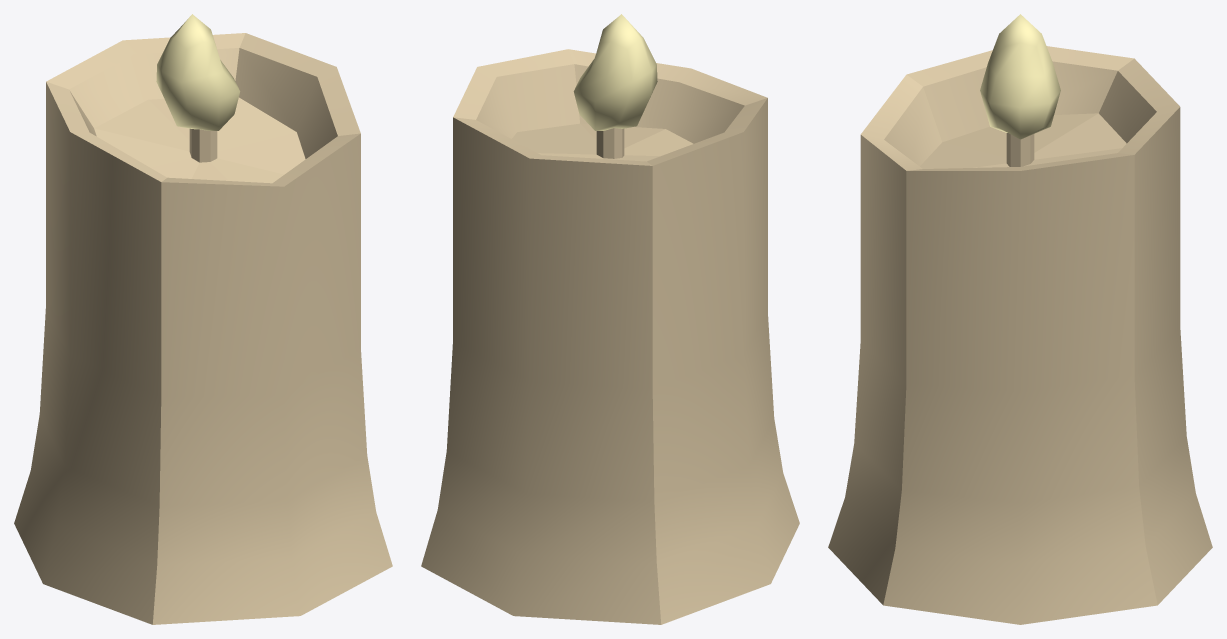
The model's file is BC_Candle.fbx.
The picture shows the model from 3 angles, left to right: view 1: azimuth 30°, elevation 25°; view 2: azimuth 150°, elevation 25°; view 3: azimuth 270°, elevation 25°; orthographic projection.
Visible parts, largest first — view 1: bc_candlelight; view 2: bc_candlelight; view 3: bc_candlelight.
Part boxes in pixels (x1=…): bc_candlelight: x1=14, y1=14, x2=392, y2=624; bc_candlelight: x1=421, y1=14, x2=799, y2=624; bc_candlelight: x1=828, y1=14, x2=1212, y2=624.
Size of the model in its own units: 3.65 by 5.8 by 3.83.
